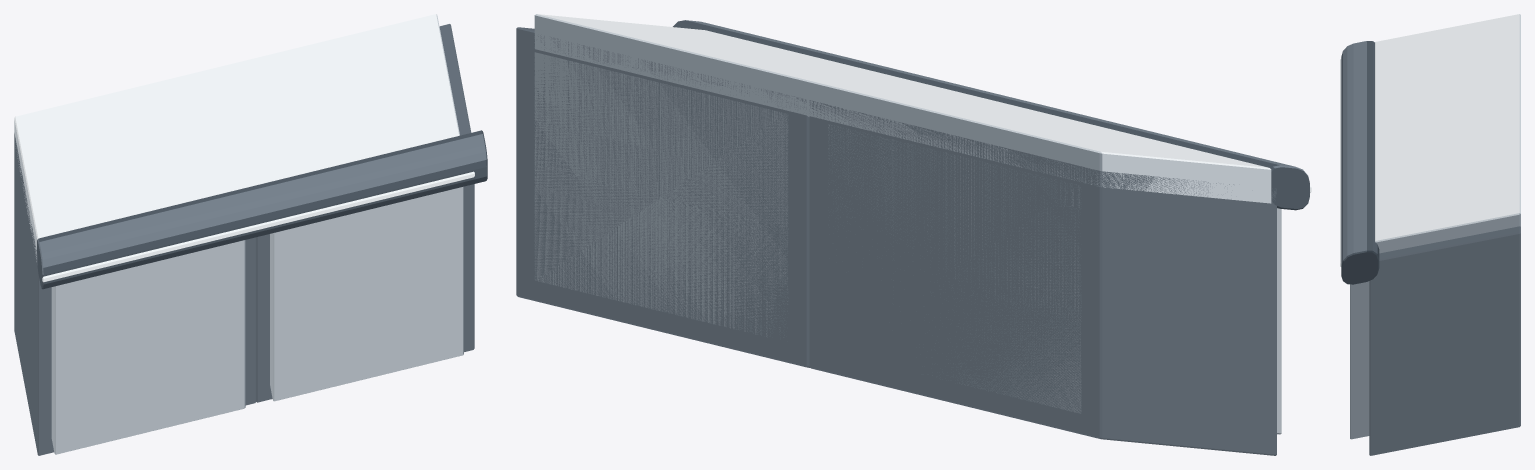
Rendered from Terrain_TopRun2R.gltf.
The picture shows the model from 3 angles, left to right: view 1: azimuth 30°, elevation 25°; view 2: azimuth 150°, elevation 25°; view 3: azimuth 270°, elevation 25°; orthographic projection. The views are drawn at different scales.
Visible parts, largest first — view 1: Terrain_TopRun2R_baked; view 2: Terrain_TopRun2R_baked; view 3: Terrain_TopRun2R_baked.
Boxes of the visible parts, x1,y1,x2,y2 form: Terrain_TopRun2R_baked: (14,14,487,455); Terrain_TopRun2R_baked: (516,14,1311,455); Terrain_TopRun2R_baked: (1340,14,1520,455).
Bounding box in the file's own units: 2.29 × 1.18 × 0.74.
